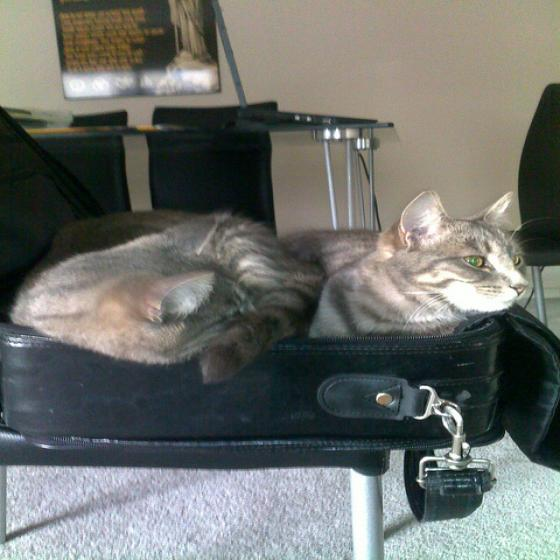cat: (8, 190, 528, 384)
chair: (0, 422, 507, 560), (517, 83, 560, 325)
suitcase: (0, 108, 560, 474)
